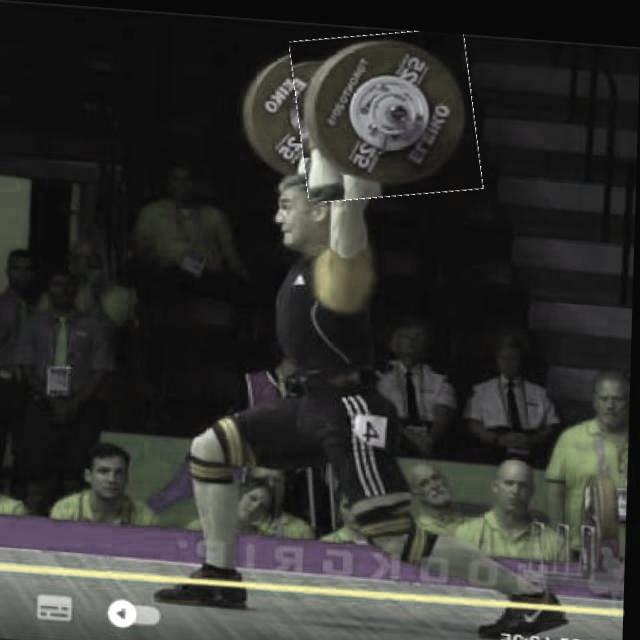barbell: (292, 17, 482, 201)
